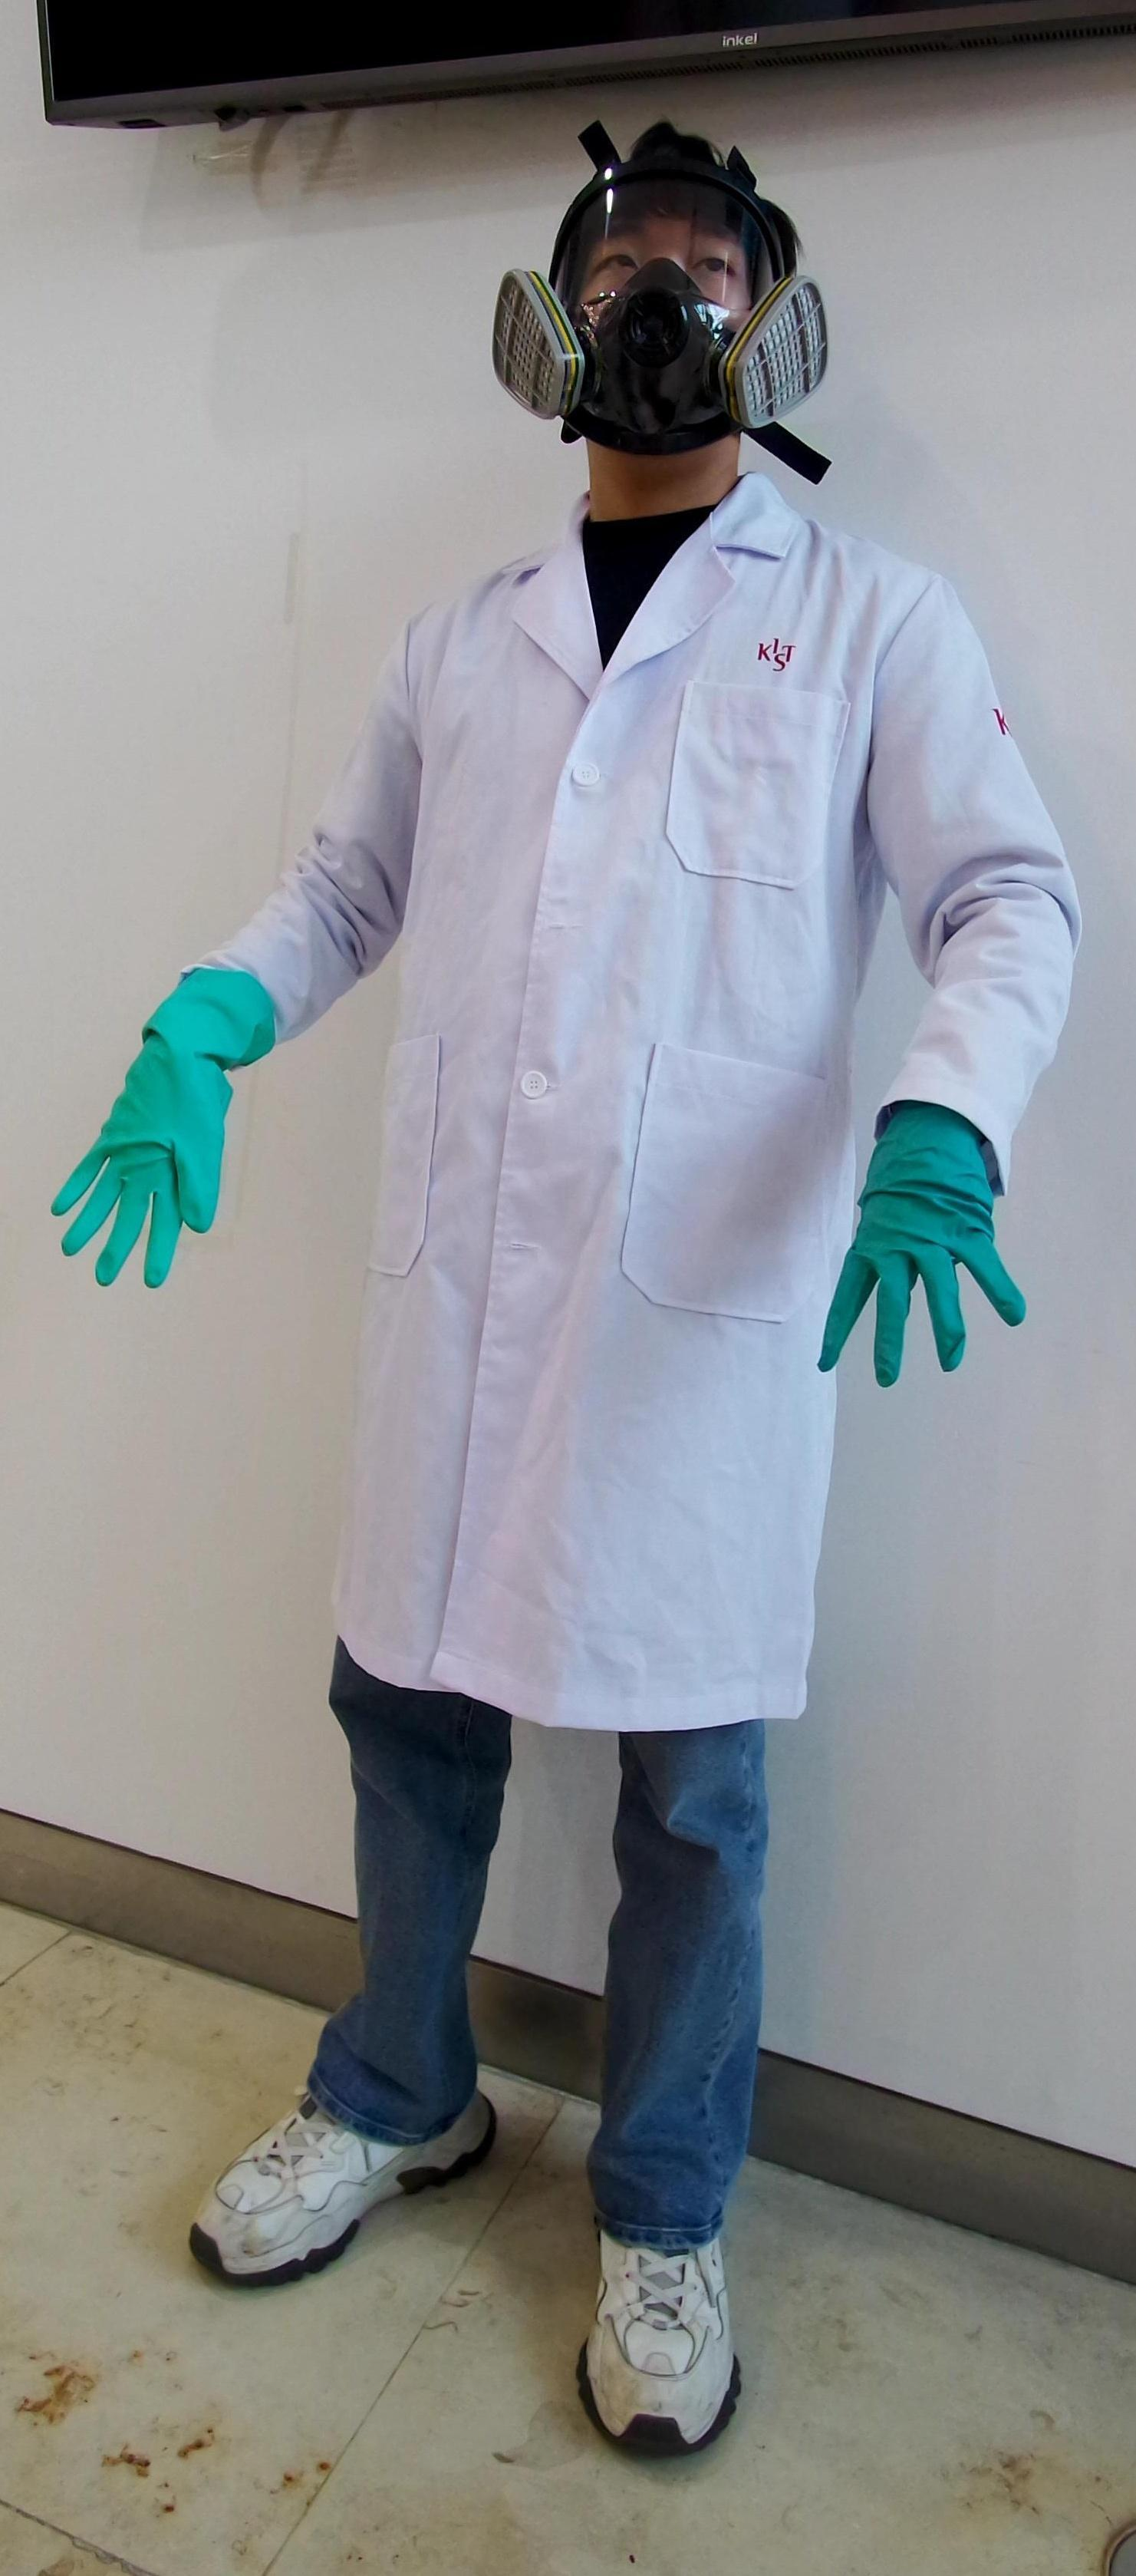lab_coat: (309, 570, 847, 1707)
